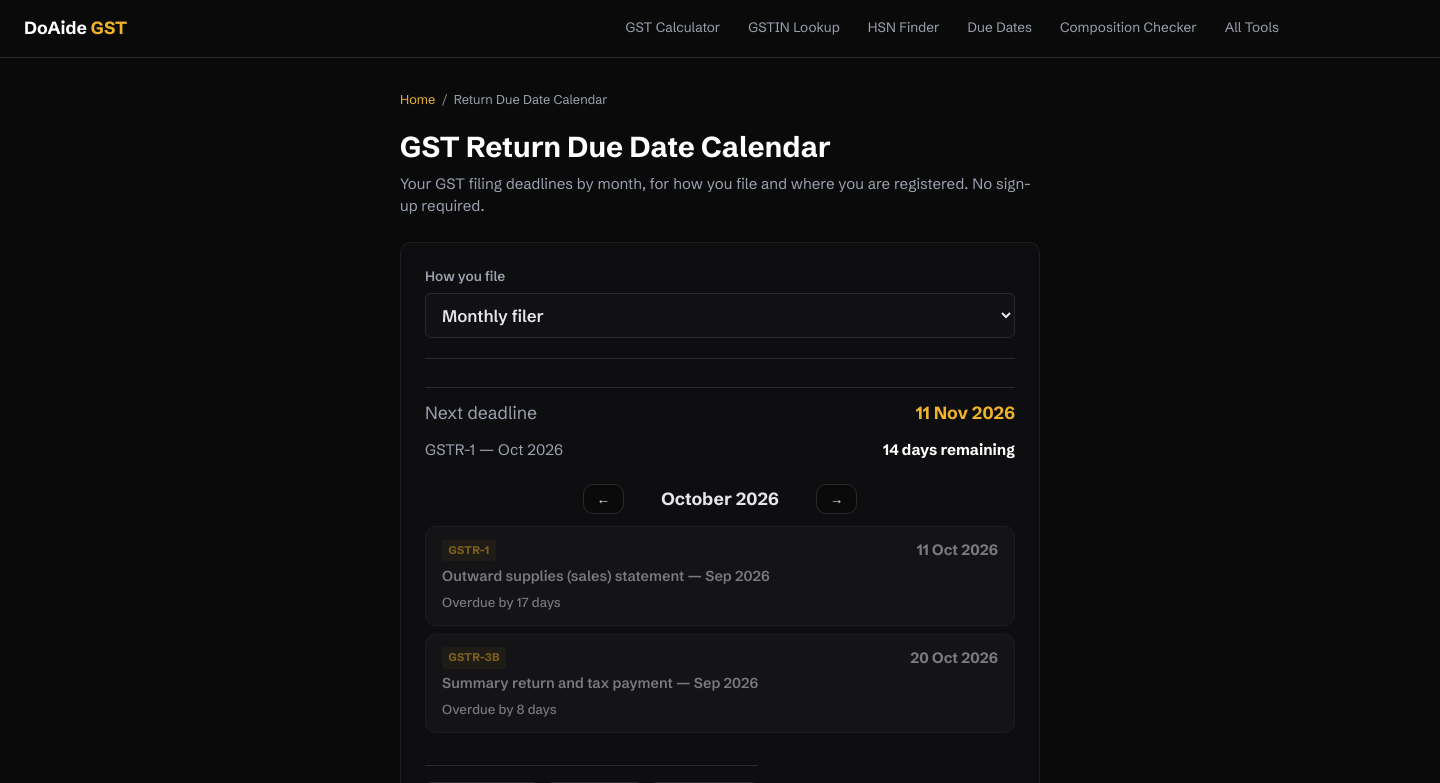
Test: ReturnDueDateCalendarPage › shows the 31 December GSTR-9 in the December view
The image size is (1440, 783).
Click the button named "Next month": x=837, y=499 [816, 484, 857, 514]
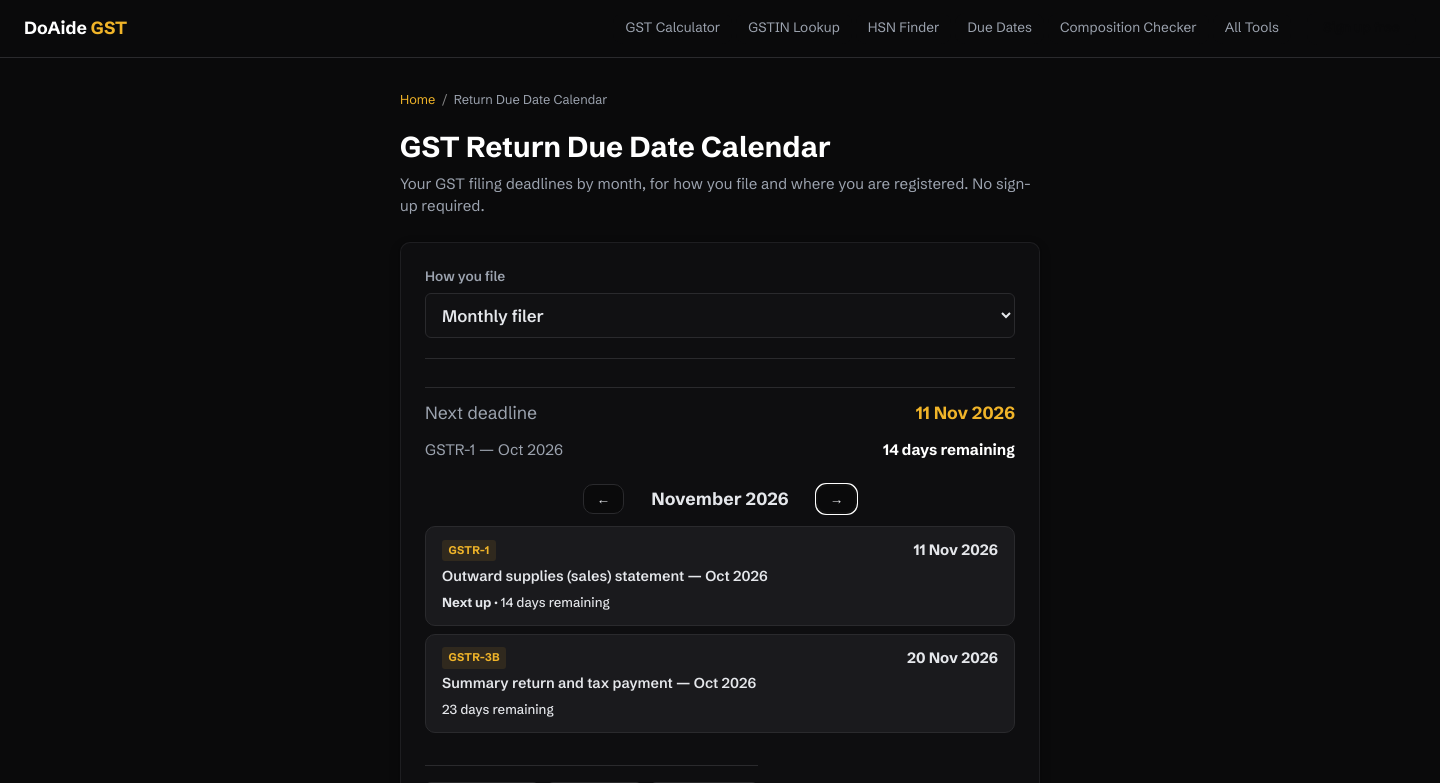
Click the button named "Next month": x=837, y=499 [816, 484, 857, 514]
(page scrolled)
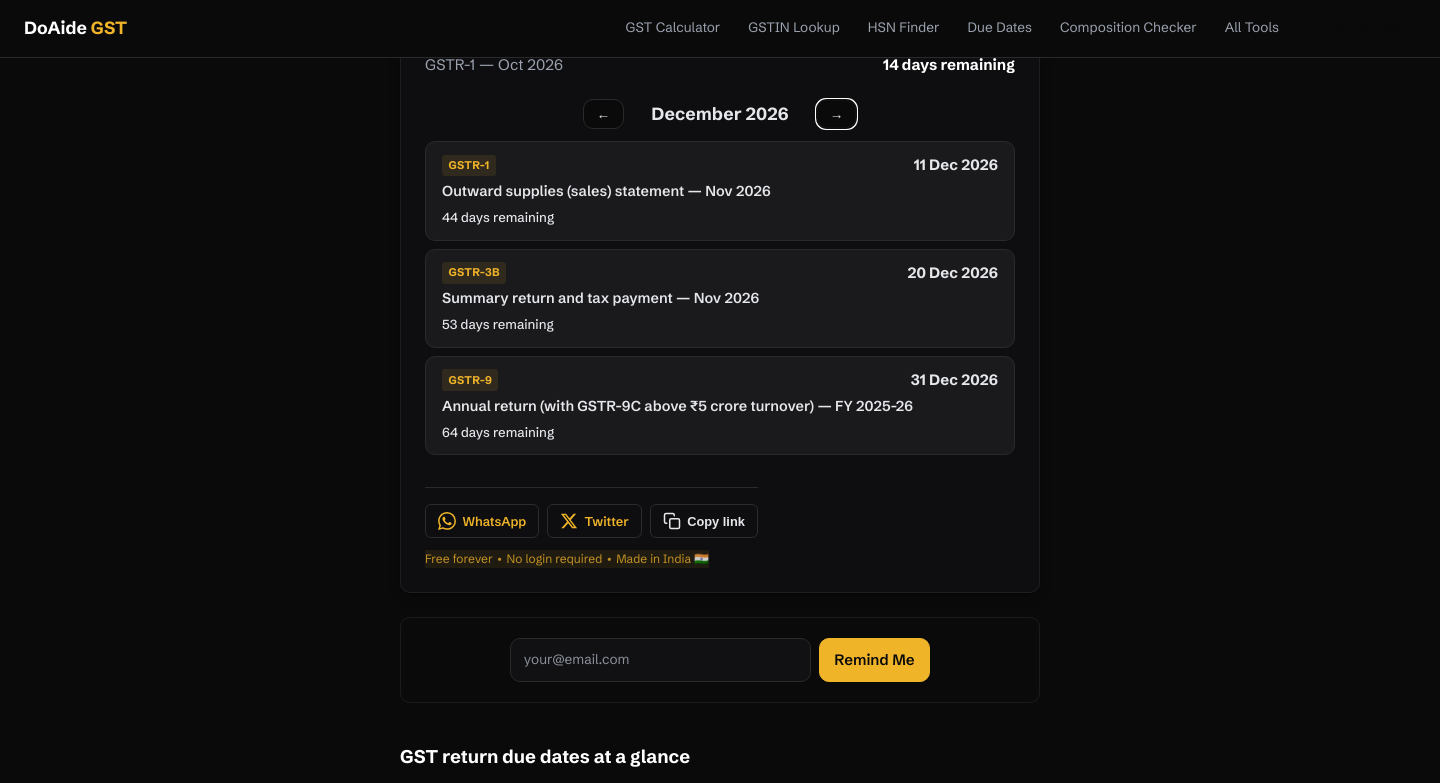
expect the element with class "calendar-date-card" shows "GSTR-9": met, box [448, 373, 492, 387]
expect the element with class "calendar-date-card" shows "31 Dec 2026": met, box [911, 370, 998, 389]
expect the element with class "calendar-date-card" shows "FY 2025-26": met, box [835, 396, 913, 414]
